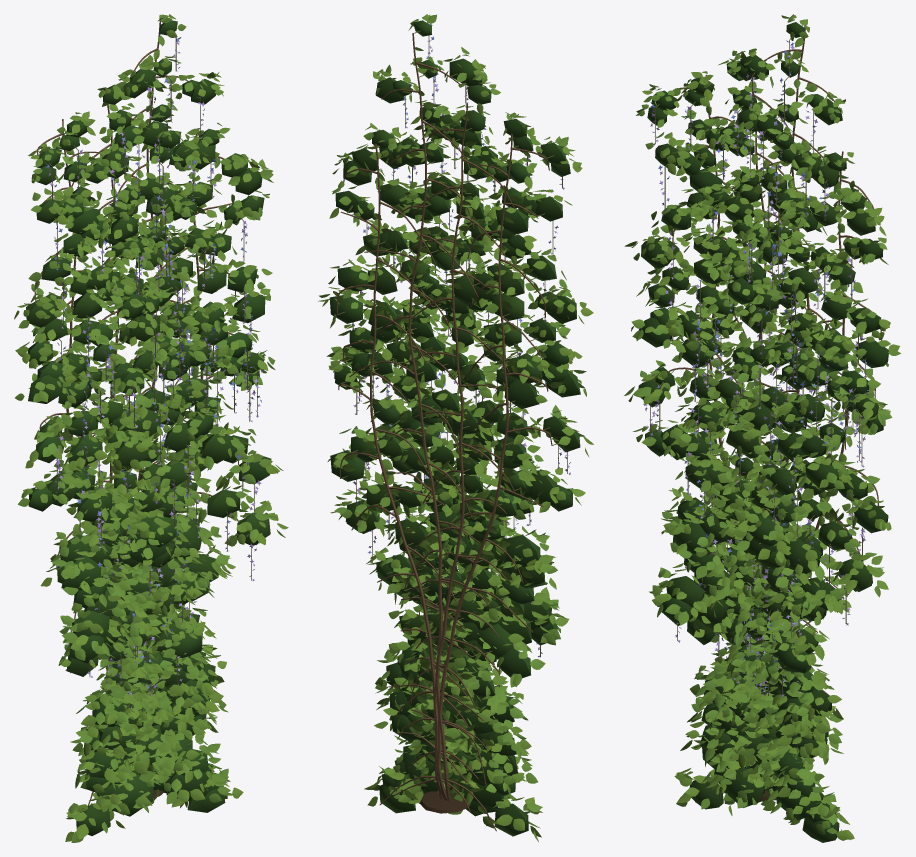
The model's file is climber_wisteria_55.glb.
3 views of the same model, side by side, from view 1: azimuth 30°, elevation 25°; view 2: azimuth 150°, elevation 25°; view 3: azimuth 330°, elevation 25° (orthographic).
Visible parts, largest first — view 1: Sammel Pflanze, Sammel Blatt, Sammel Putz, Sammel Holz; view 2: Sammel Blatt, Sammel Pflanze, Sammel Holz, Sammel Putz; view 3: Sammel Pflanze, Sammel Blatt, Sammel Putz, Sammel Holz.
Part boxes in pixels (x1=…): Sammel Pflanze: x1=14, y1=14, x2=288, y2=842; Sammel Blatt: x1=26, y1=20, x2=271, y2=835; Sammel Putz: x1=36, y1=21, x2=257, y2=798; Sammel Holz: x1=32, y1=20, x2=238, y2=806; Sammel Blatt: x1=329, y1=20, x2=580, y2=836; Sammel Pflanze: x1=318, y1=14, x2=593, y2=841; Sammel Holz: x1=337, y1=33, x2=552, y2=831; Sammel Putz: x1=338, y1=31, x2=567, y2=813; Sammel Pflanze: x1=624, y1=14, x2=900, y2=840; Sammel Blatt: x1=638, y1=22, x2=888, y2=842; Sammel Putz: x1=650, y1=25, x2=867, y2=800; Sammel Holz: x1=669, y1=25, x2=881, y2=817.
Bounding box in the file's own units: 1.98 × 5.68 × 0.5483.
